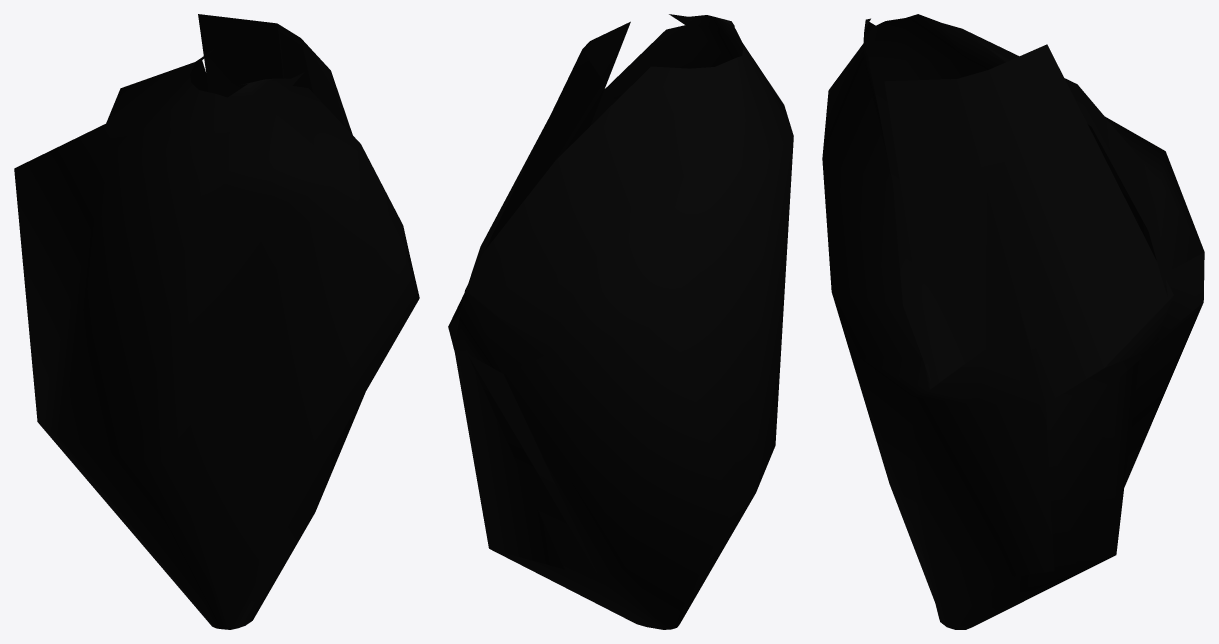
The model's file is piernaizq.obj.
3 views of the same model, side by side, from view 1: azimuth 30°, elevation 25°; view 2: azimuth 150°, elevation 25°; view 3: azimuth 270°, elevation 25° (orthographic).
Parts seen in each view (by area): view 1: piernaizq_Mesh; view 2: piernaizq_Mesh; view 3: piernaizq_Mesh.
Boxes of the visible parts, bbox=[...] form: piernaizq_Mesh: bbox=[14, 14, 419, 629]; piernaizq_Mesh: bbox=[448, 14, 793, 629]; piernaizq_Mesh: bbox=[822, 14, 1204, 629].
Size of the model in its own units: 1.02 by 1.87 by 1.1.
Materials: 1 (1 with a texture image).
